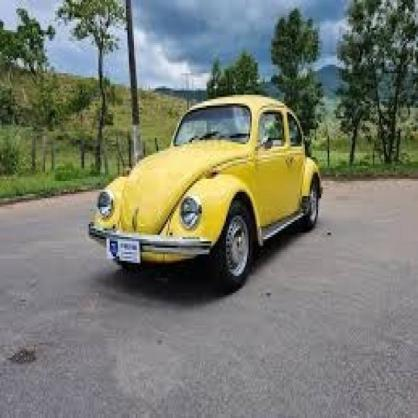car: (94, 94, 327, 287)
